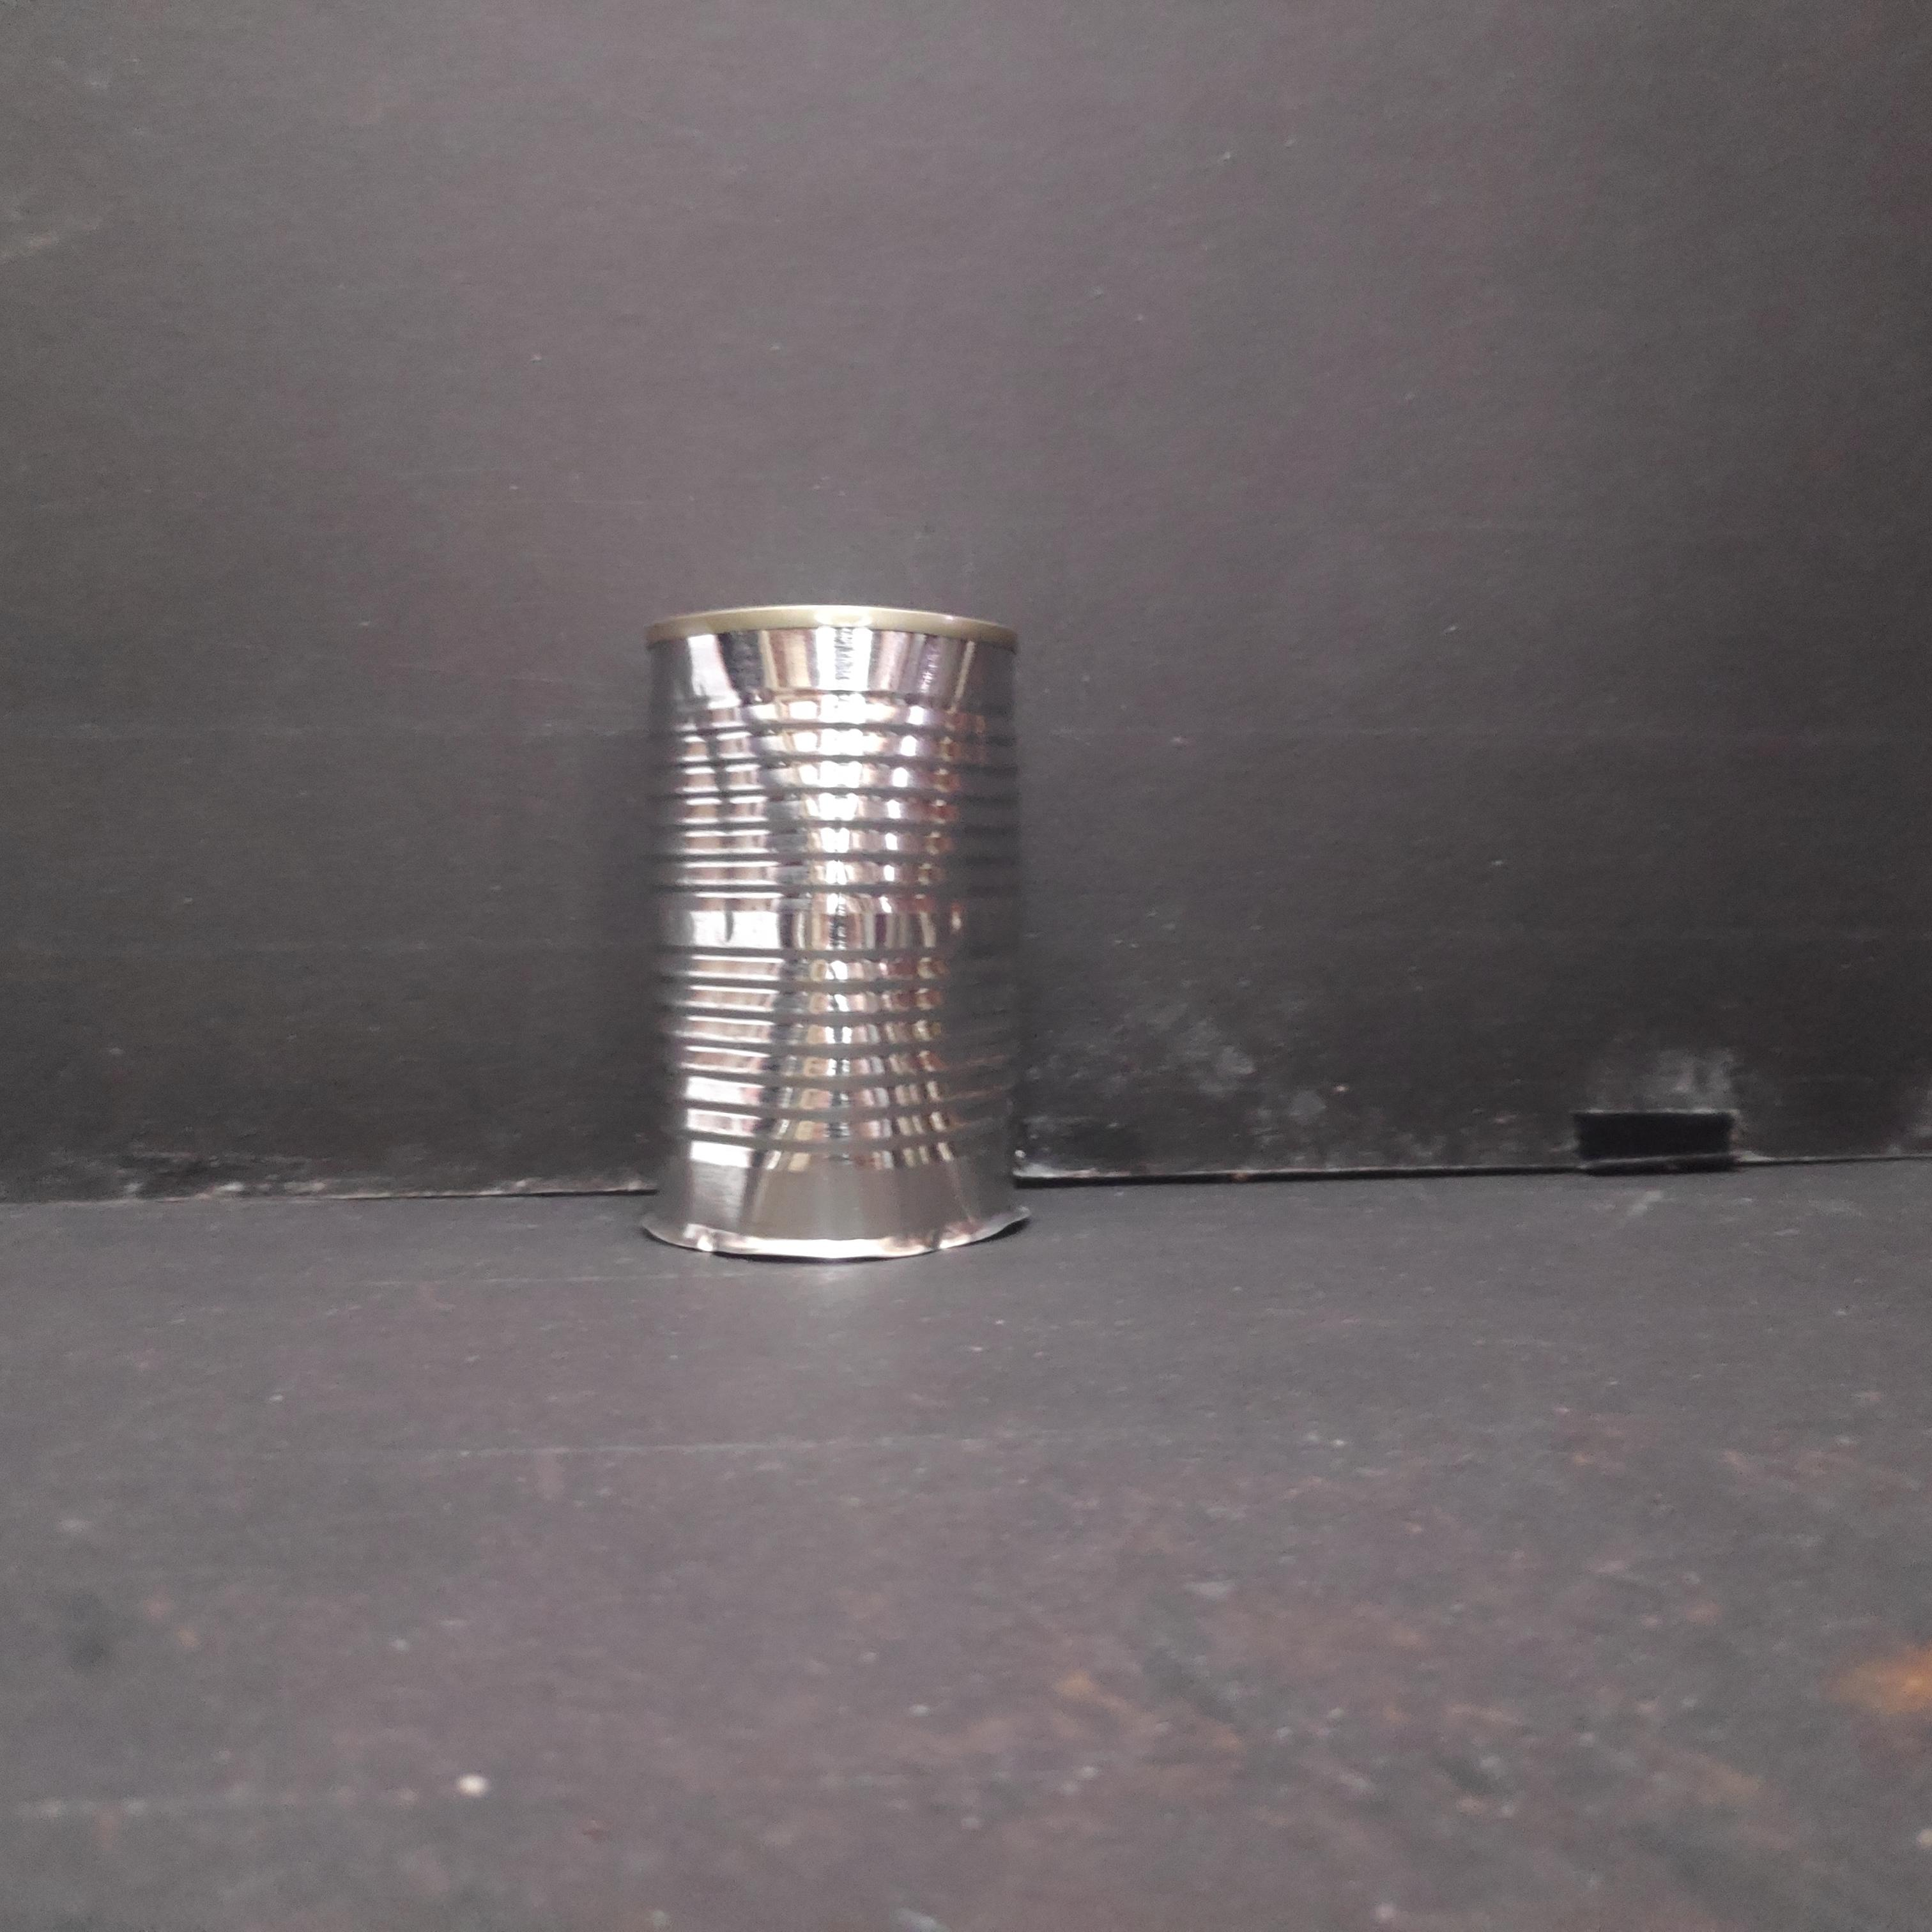Minor Defect: (628, 602, 1030, 1269)
